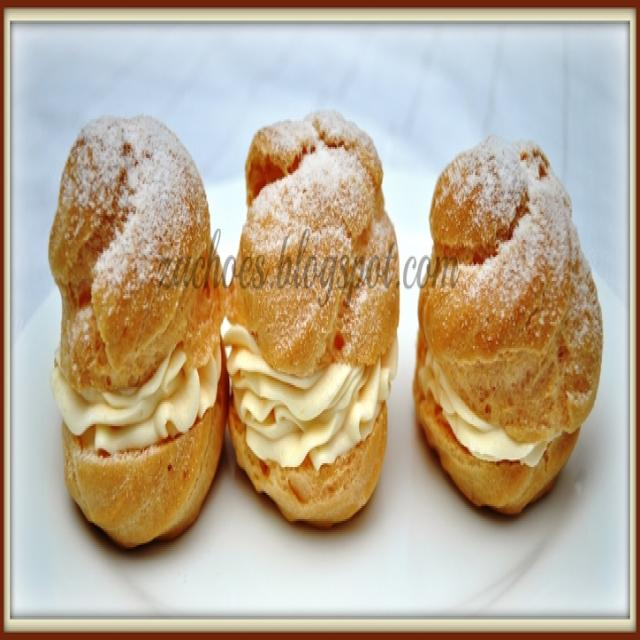炸货点心: (32, 65, 605, 562)
蛋糕甜品: (32, 65, 605, 562)
